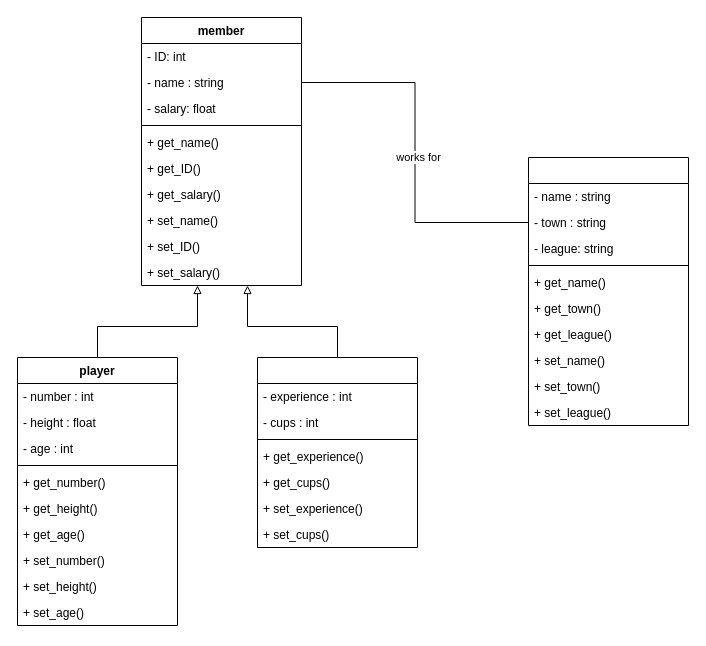
Image size: 706x646. Some labels were removed from this diagram. Each missing label, with the box of its shape:
Coach: (256, 356, 418, 548)
team: (528, 156, 688, 426)
